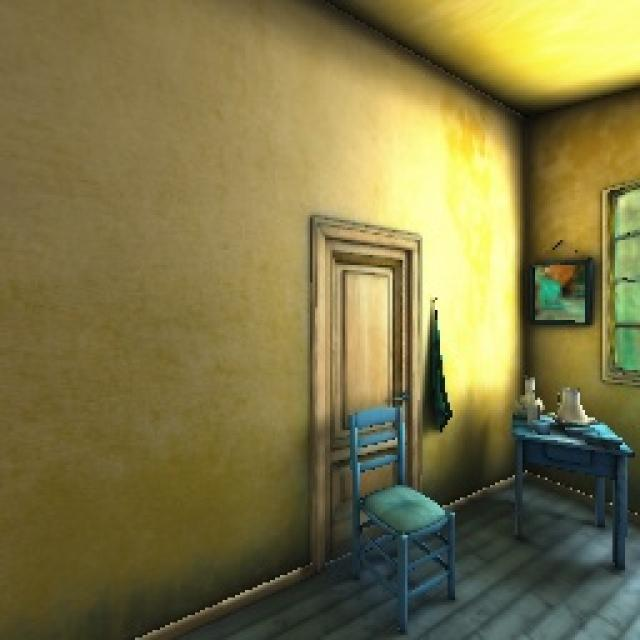chair: (344, 397, 472, 632)
door: (303, 213, 432, 565)
table: (486, 366, 640, 572)
